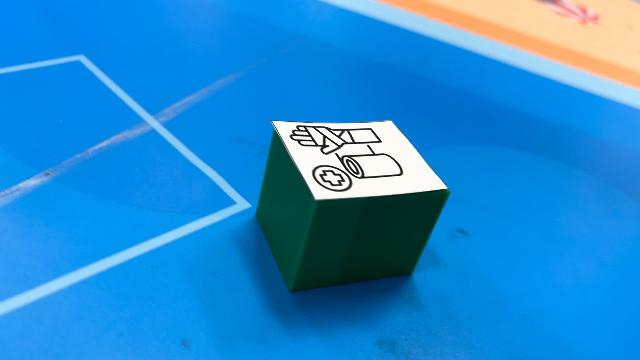bandage: (255, 119, 451, 292)
